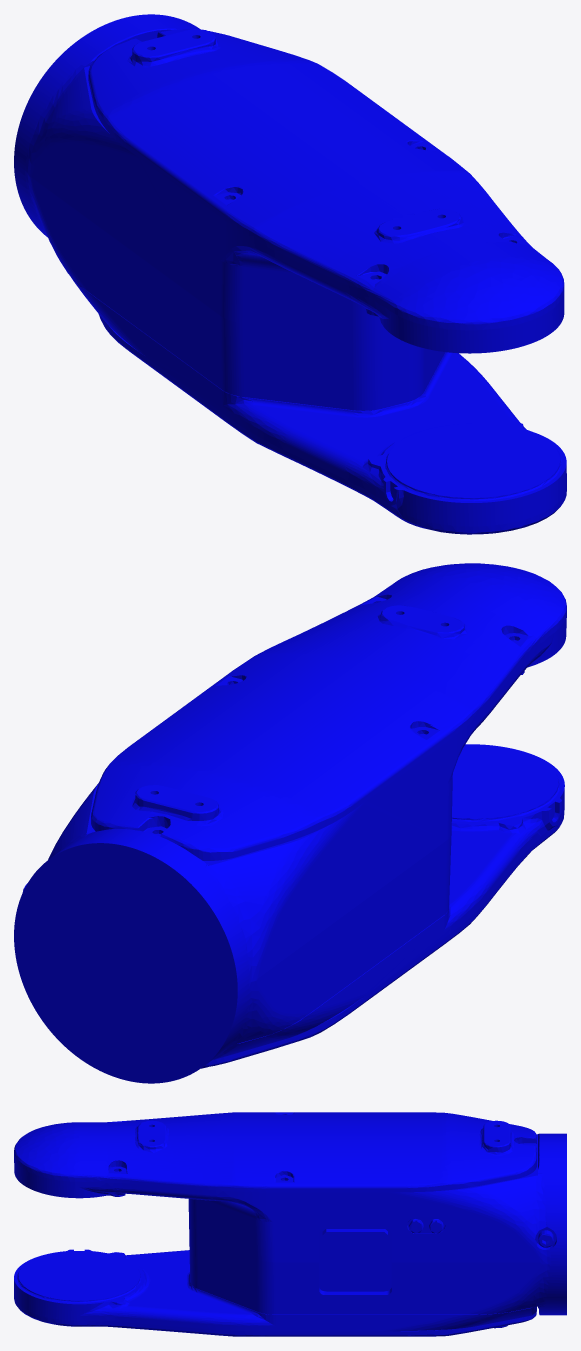
Rendered from yaskawa_link_4_r_visual_vis_1.dae.
3 renders of one model, top to bottom at view 1: azimuth 30°, elevation 25°; view 2: azimuth 150°, elevation 25°; view 3: azimuth 270°, elevation 25°, orthographic. The views are drawn at different scales.
Visible parts, largest first — view 1: node; view 2: node; view 3: node.
Boxes of the visible parts, x1=… form: node: x1=14, y1=14, x2=566, y2=534; node: x1=14, y1=563, x2=566, y2=1083; node: x1=14, y1=1112, x2=566, y2=1336.
Bounding box in the file's own units: 0.1033 × 0.1104 × 0.3045.
